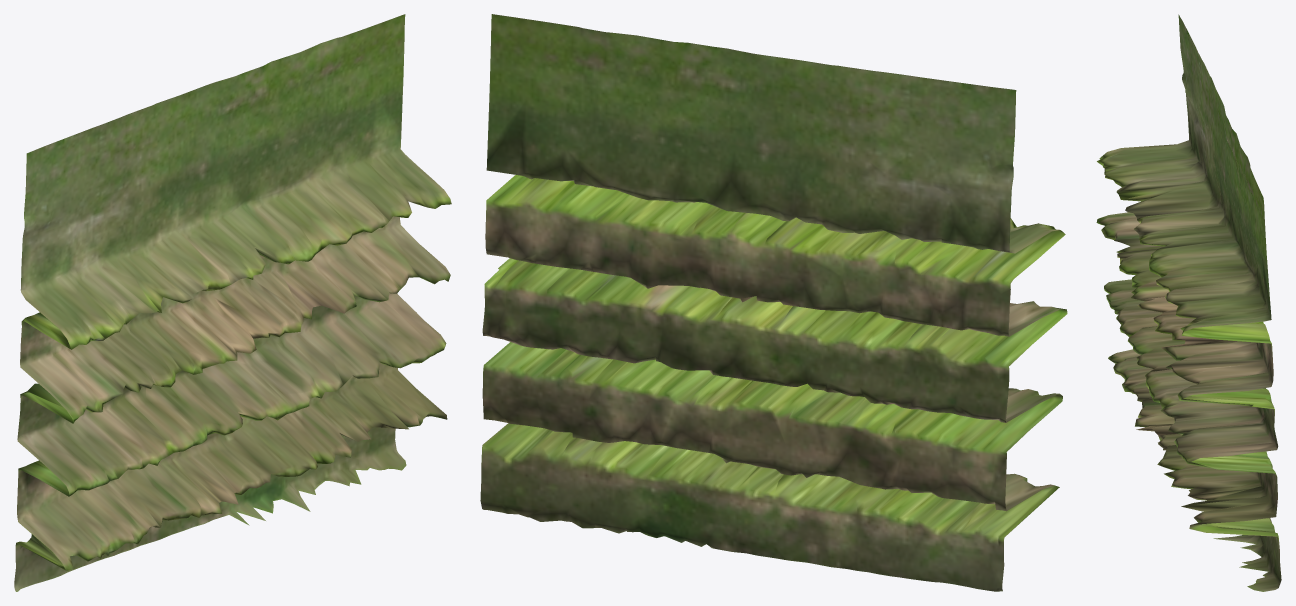
Rendered from map_260_50.obj.
3 renders of one model, left to right at view 1: azimuth 30°, elevation 25°; view 2: azimuth 150°, elevation 25°; view 3: azimuth 270°, elevation 25°, orthographic. The views are drawn at different scales.
Bounding box in the file's own units: 10 × 10 × 4.26.
1 material, 1 textured.
